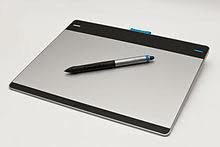pen: (64, 53, 153, 74)
